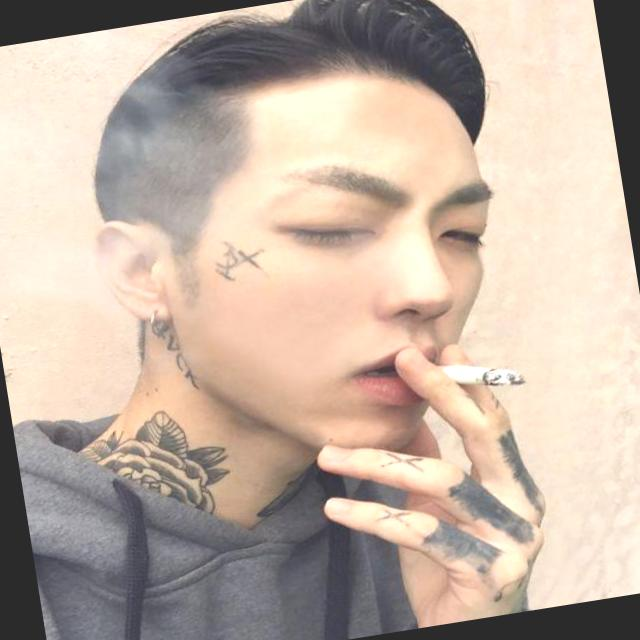cigarette: (387, 331, 560, 416)
